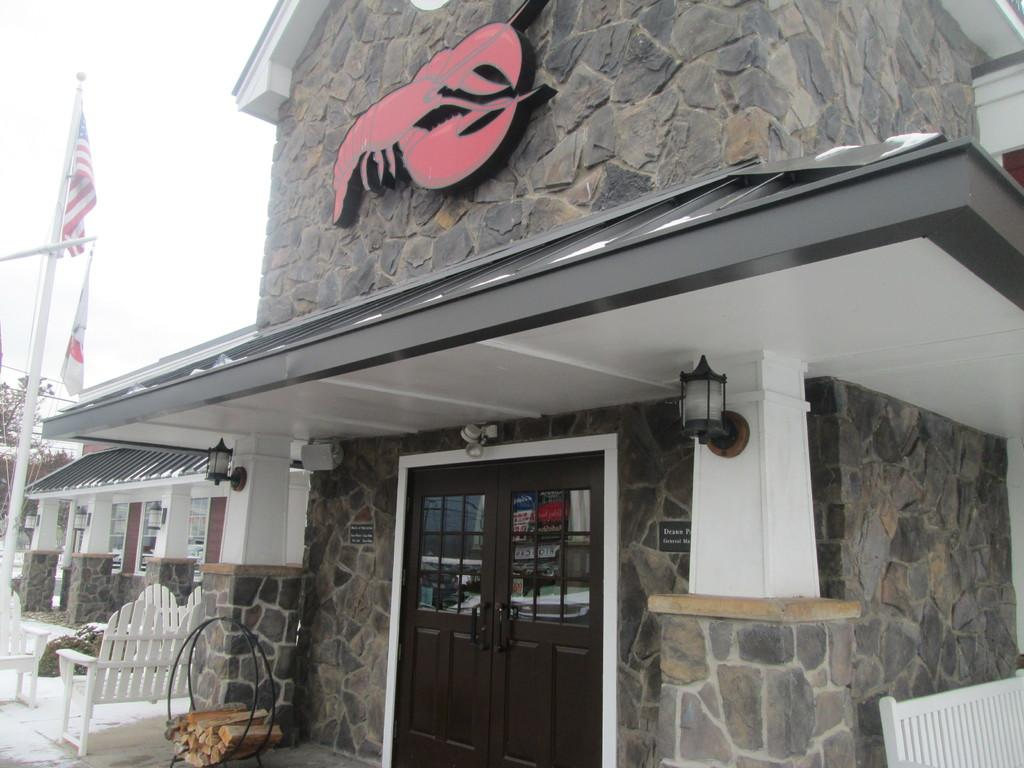handle: (464, 602, 486, 652), (494, 605, 514, 659)
